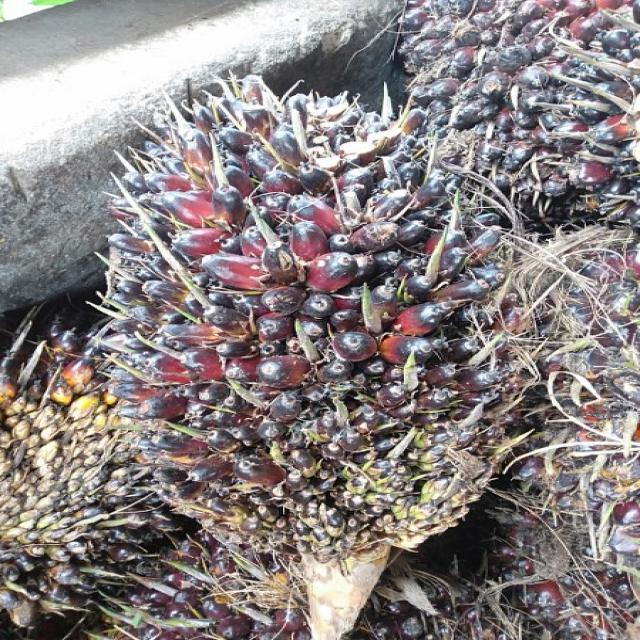fraksi 1: (78, 85, 571, 559)
